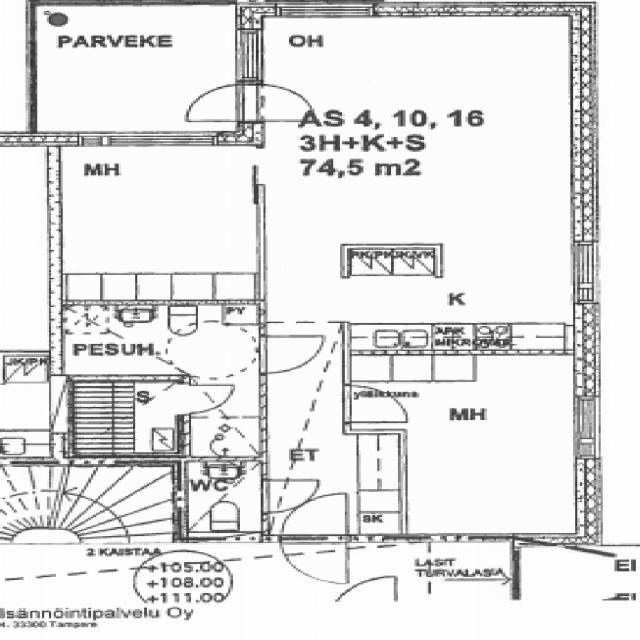door: (279, 533, 347, 585), (279, 491, 347, 543), (175, 84, 261, 122), (235, 84, 321, 122), (253, 336, 321, 374), (343, 386, 408, 421), (253, 479, 316, 514), (180, 385, 233, 414)
